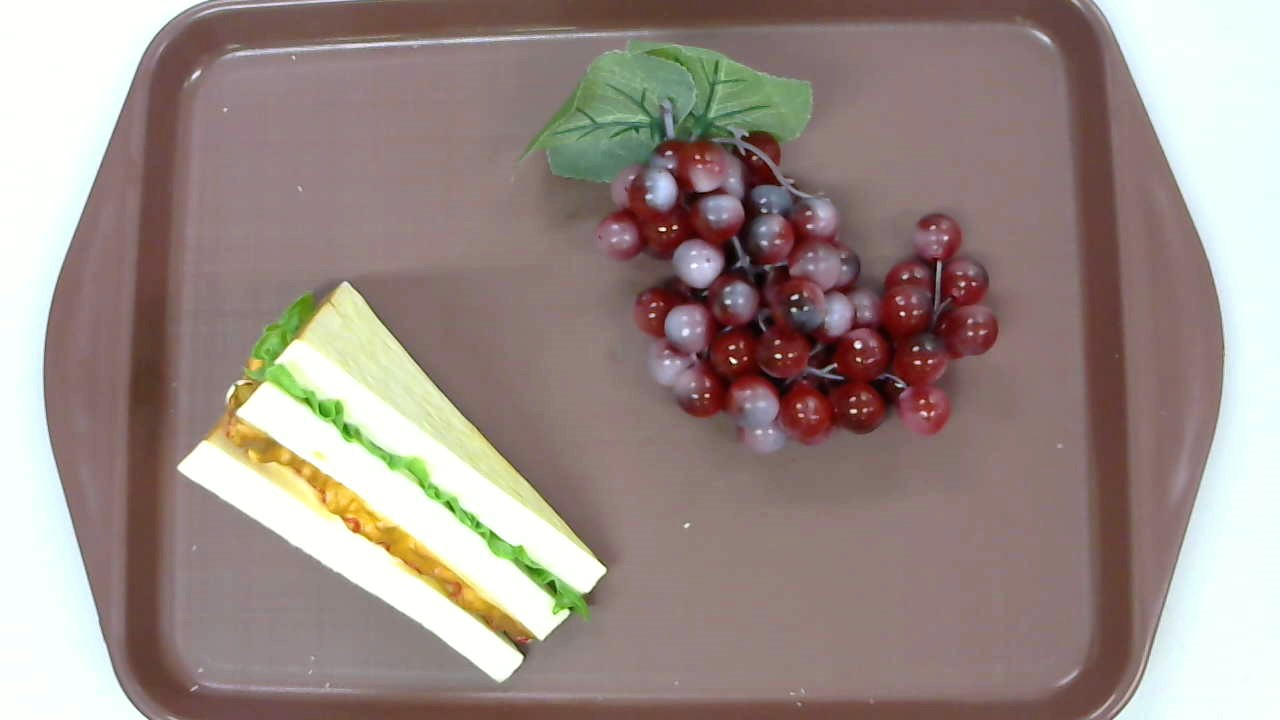grape: (519, 36, 999, 453)
sandwich: (178, 281, 609, 682)
